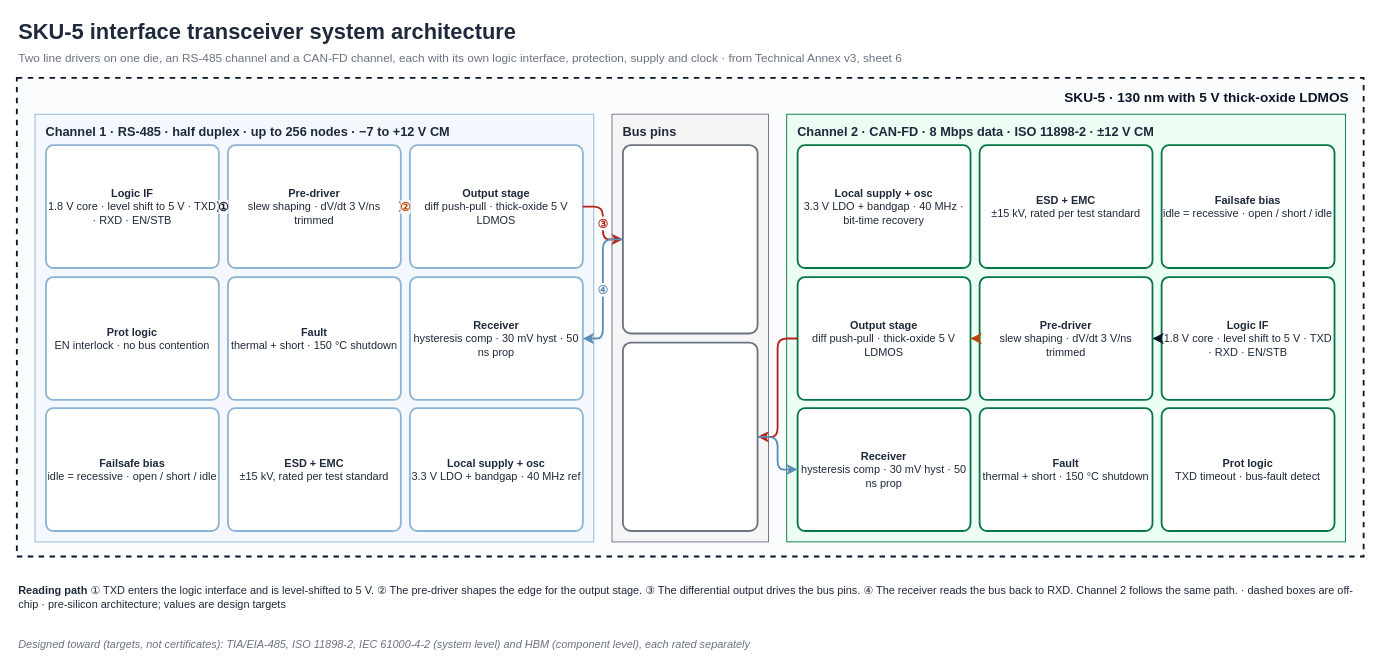
The diagram is 1380 pixels wide and 670 high, and some of its shapes have lost their labels. Here are the shapes that lost their labels. From the top down, the centre of each, then its label:
At point (690, 239): "A / B RS-485".
At point (690, 436): "CANH / CANL CAN-FD".
